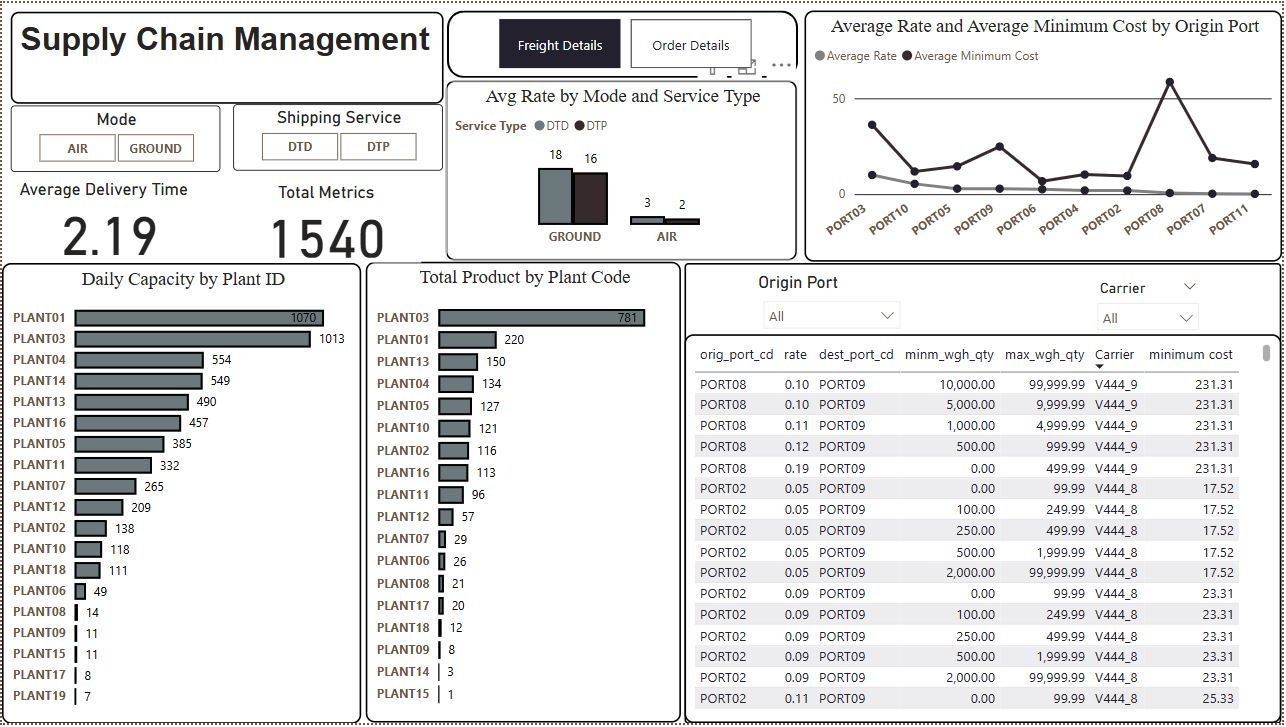

The page's visual inventory and layout, read from the dashboard file:
{"tool":"powerbi","page":{"name":"Freight Details","canvas":[1280,720],"ordinal":0},"visuals":[{"type":"shape","box":[445.2,7.2,351.1,67.6],"z":0},{"type":"shape","box":[682.8,259.4,597.2,460.9],"z":1000},{"type":"barChart","title":"Daily Capacity  by Plant ID","fields":{"Category":["WhCapacities.Plant ID"],"Y":["Sum(WhCapacities.Daily Capacity )"]},"box":[0,259.4,359.5,460.9],"z":2000},{"type":"barChart","title":"Total Product by Plant Code","fields":{"Category":["ProductsPerPlant.Plant Code"],"Y":["CountNonNull(ProductsPerPlant.Product ID)"]},"box":[363.1,259.1,314.9,460.9],"z":3000},{"type":"clusteredColumnChart","fields":{"Y":["Avg(FreightRates.rate)"],"Category":["FreightRates.mode_dsc"],"Series":["FreightRates.svc_cd"]},"box":[444,77.2,351.1,179.8],"z":4000},{"type":"tableEx","fields":{"Values":["FreightRates.orig_port_cd","FreightRates.rate","FreightRates.dest_port_cd","FreightRates.minm_wgh_qty","FreightRates.max_wgh_qty","FreightRates.Carrier","FreightRates.minimum cost"]},"box":[682.8,331.8,597.2,388.5],"z":5000},{"type":"card","title":"Average Delivery Time","fields":{"Values":["Avg(FreightRates.tpt_day_cnt)"]},"box":[12.1,176.1,190.6,80.8],"z":6000},{"type":"slicer","title":"Mode","fields":{"Values":["FreightRates.mode_dsc"]},"box":[8.4,102.5,209.9,66.4],"z":7000},{"type":"slicer","title":"Shipping Service","fields":{"Values":["FreightRates.svc_cd"]},"box":[231.6,101.3,209.9,66.4],"z":8000},{"type":"slicer","fields":{"Values":["FreightRates.Carrier"]},"box":[1084.6,271.4,121.9,56.7],"z":9000},{"type":"lineChart","fields":{"Category":["FreightRates.orig_port_cd"],"Y":["Avg(FreightRates.rate)","Avg(FreightRates.minimum cost)"]},"box":[802.2,7.2,477.8,250.9],"z":10000},{"type":"slicer","title":"Origin Port","fields":{"Values":["FreightRates.orig_port_cd"]},"box":[751.6,269,156.8,56.7],"z":11000},{"type":"textbox","box":[8.4,8.4,433,91.7],"z":12000},{"type":"card","title":"Total Metrics","fields":{"Values":["CountNonNull(FreightRates.Carrier)"]},"box":[229.2,178.6,190.6,80.8],"z":13000},{"type":"pageNavigator","box":[497.1,15.7,252.1,49.5],"z":14500}]}

Visuals, with their boxes in screenshot pixels (x1, y1, x2, y2), scaled from the page's 1280x720 canvas onto the 1286x727 screenshot:
shape: box(447, 7, 800, 76)
shape: box(686, 262, 1285, 726)
"Daily Capacity  by Plant ID" barChart: box(0, 262, 361, 726)
"Total Product by Plant Code" barChart: box(365, 262, 681, 726)
clusteredColumnChart - Avg(FreightRates.rate) x FreightRates.mode_dsc: box(446, 78, 799, 259)
tableEx - FreightRates.orig_port_cd x FreightRates.rate: box(686, 335, 1285, 726)
"Average Delivery Time" card: box(12, 178, 204, 259)
"Mode" slicer: box(8, 103, 219, 171)
"Shipping Service" slicer: box(233, 102, 444, 169)
slicer - FreightRates.Carrier: box(1090, 274, 1212, 331)
lineChart - FreightRates.orig_port_cd x Avg(FreightRates.rate): box(806, 7, 1285, 261)
"Origin Port" slicer: box(755, 272, 913, 329)
textbox: box(8, 8, 443, 101)
"Total Metrics" card: box(230, 180, 422, 262)
pageNavigator: box(499, 16, 753, 66)
